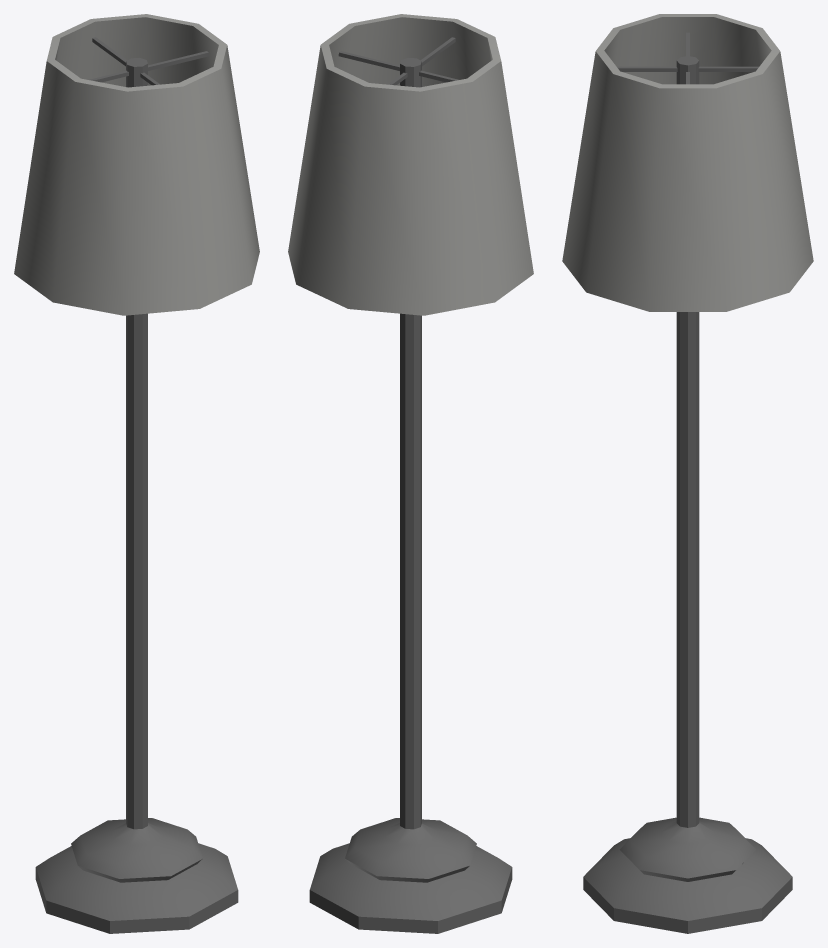
Rendered from Light_Stand1.glb.
3 views of the same model, side by side, from view 1: azimuth 30°, elevation 25°; view 2: azimuth 150°, elevation 25°; view 3: azimuth 270°, elevation 25° (orthographic).
Visible parts, largest first — view 1: Light_Stand1; view 2: Light_Stand1; view 3: Light_Stand1.
Boxes of the visible parts, x1,y1,x2,y2 form: Light_Stand1: [14, 14, 259, 933]; Light_Stand1: [288, 14, 533, 933]; Light_Stand1: [562, 14, 813, 933].
Bounding box in the file's own units: 0.3782 × 1.46 × 0.3976.
Materials: 2 (2 with a texture image).
